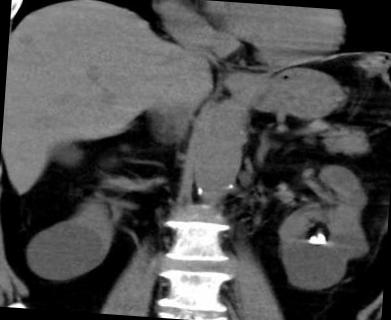Tas_Var: (306, 232, 328, 248)
